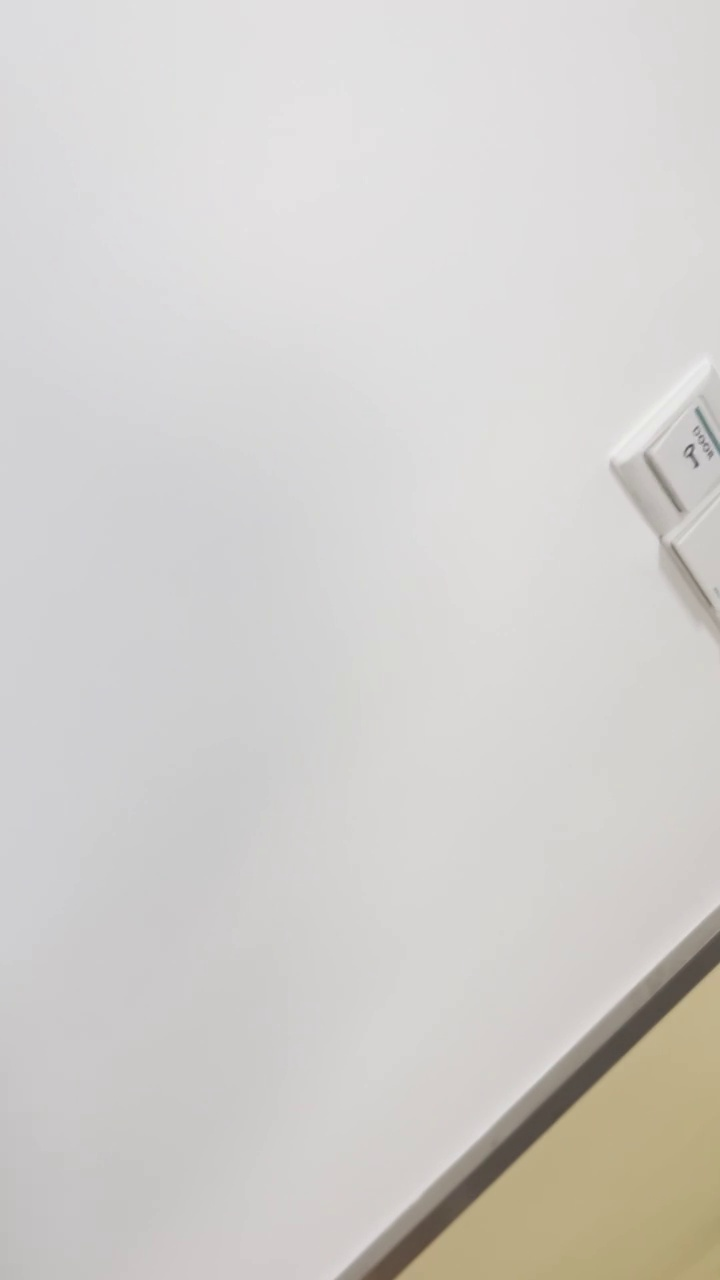button: (659, 481, 720, 626)
